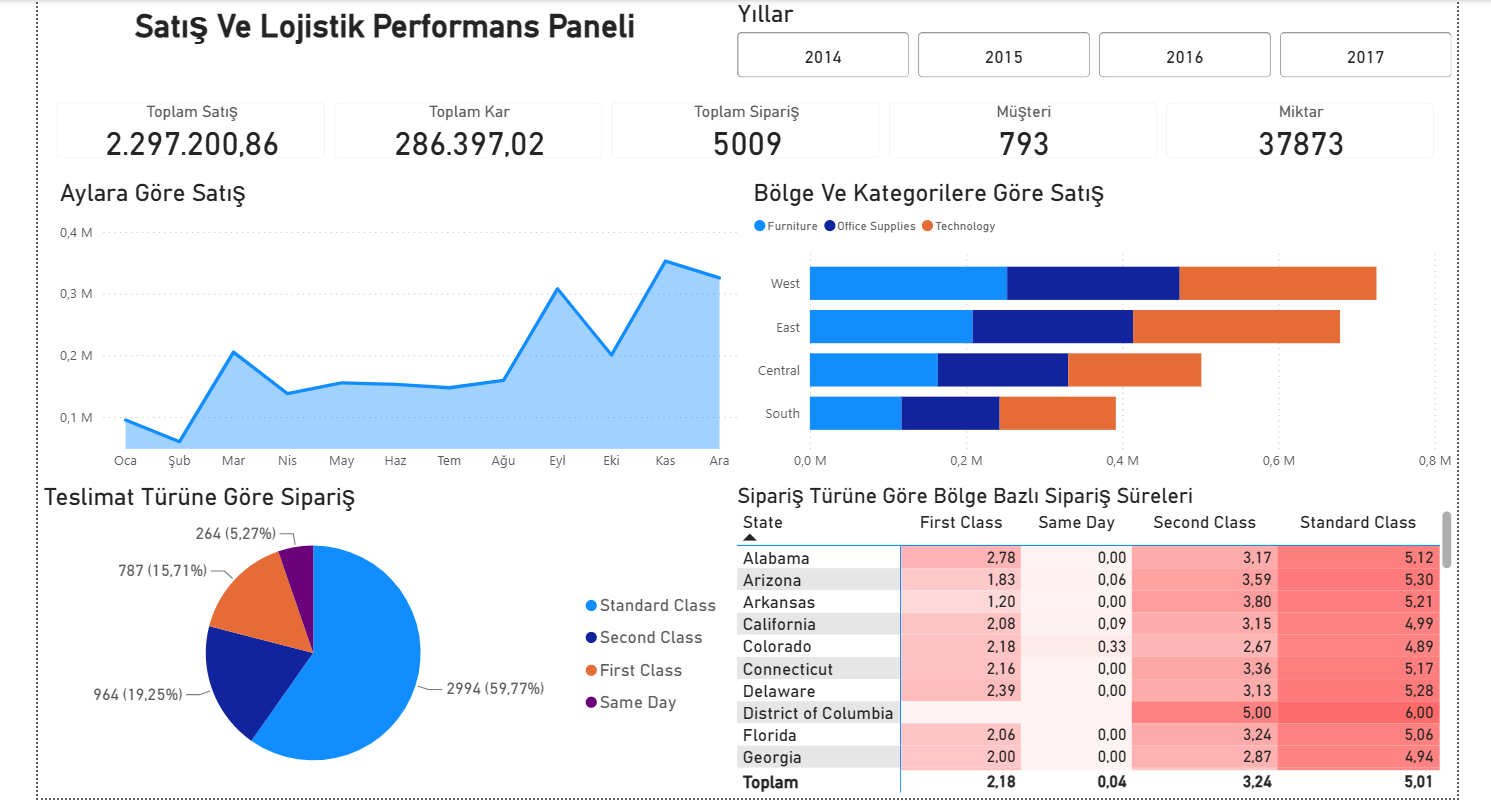

The dashboard page shown, as its layout file describes it:
{"tool":"powerbi","page":{"name":"1. sayfa","canvas":[1280,720],"ordinal":0},"visuals":[{"type":"areaChart","title":"Aylara Göre Satış","fields":{"Category":["Fact_Sales.Order Date (Ay)"],"Y":["Sum(Fact_Sales.Sales)"]},"box":[14.9,160.5,624.5,273.7],"z":0},{"type":"barChart","title":"Bölge Ve Kategorilere Göre Satış","fields":{"Y":["Sum(Fact_Sales.Sales)"],"Category":["Dim_Geography.Region"],"Series":["Dim_Product.Category"]},"box":[640.6,160.5,639.4,273.7],"z":1},{"type":"cardVisual","fields":{"Data":["Sum(Fact_Sales.Sales)","Sum(Fact_Sales.Profit)","Fact_Sales.Total Orders","Dim_Customer.total_customer","Sum(Fact_Sales.Quantity)"]},"box":[0,75.9,1280,84.6],"z":2},{"type":"advancedSlicerVisual","title":"Yıllar","fields":{"Values":["Fact_Sales.Order Date (Yıl)"]},"box":[625.7,0,654.3,75.9],"z":3},{"type":"pieChart","title":"Teslimat Türüne Göre Sipariş","fields":{"Category":["Fact_Sales.Ship Mode"],"Y":["Fact_Sales.Total Orders"]},"box":[0,434.1,625.7,286.1],"z":4},{"type":"pivotTable","title":"Sipariş Türüne Göre Bölge Bazlı Sipariş Süreleri","fields":{"Rows":["Dim_Geography.State"],"Columns":["Fact_Sales.Ship Mode"],"Values":["Avg(Fact_Sales.shipping_time)"]},"box":[625.7,434.1,654.3,286.1],"z":5},{"type":"textbox","box":[0,0,625.7,75.9],"z":6}]}

Visuals, with their boxes on the page's 1280x720 design canvas (x1, y1, x2, y2). These are canvas units, not pixel positions in the 1491x801 screenshot, which may show the page scaled, cropped or inside an application window:
"Aylara Göre Satış" areaChart: 15/160/639/434
"Bölge Ve Kategorilere Göre Satış" barChart: 641/160/1280/434
cardVisual - Sum(Fact_Sales.Sales) x Sum(Fact_Sales.Profit): 0/76/1280/160
"Yıllar" advancedSlicerVisual: 626/0/1280/76
"Teslimat Türüne Göre Sipariş" pieChart: 0/434/626/720
"Sipariş Türüne Göre Bölge Bazlı Sipariş Süreleri" pivotTable: 626/434/1280/720
textbox: 0/0/626/76
